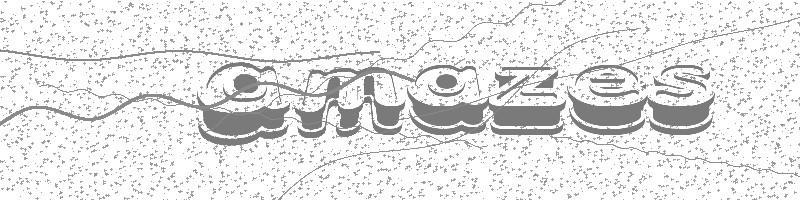a: (195, 61, 294, 147), (405, 64, 488, 138)
e: (568, 63, 648, 137)
m: (294, 67, 406, 139)
s: (648, 64, 716, 137)
z: (488, 65, 567, 136)
